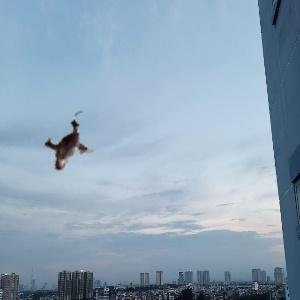drone: (31, 108, 116, 193)
